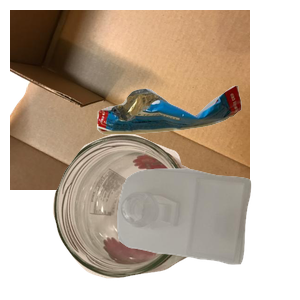cardboard: (10, 10, 250, 190)
glass: (50, 131, 252, 300)
plastic: (115, 166, 300, 300)
trash: (94, 83, 300, 210)
